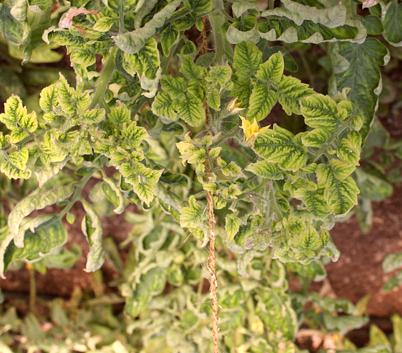Tomato leaf yellow virus: (318, 156, 375, 215), (252, 124, 316, 175), (112, 152, 173, 201), (40, 71, 80, 139), (292, 89, 344, 133), (0, 94, 42, 144), (152, 75, 196, 119), (0, 130, 37, 182), (249, 73, 279, 131), (235, 38, 264, 88), (175, 86, 205, 133), (127, 44, 163, 82), (258, 42, 287, 83), (120, 120, 145, 154)
